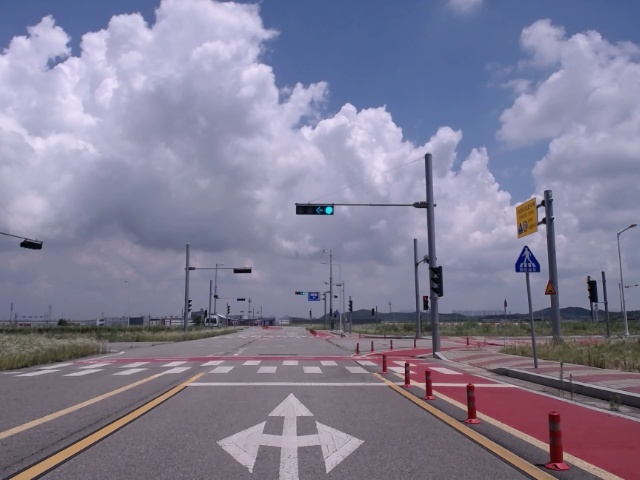all_green_4: (294, 205, 337, 214)
